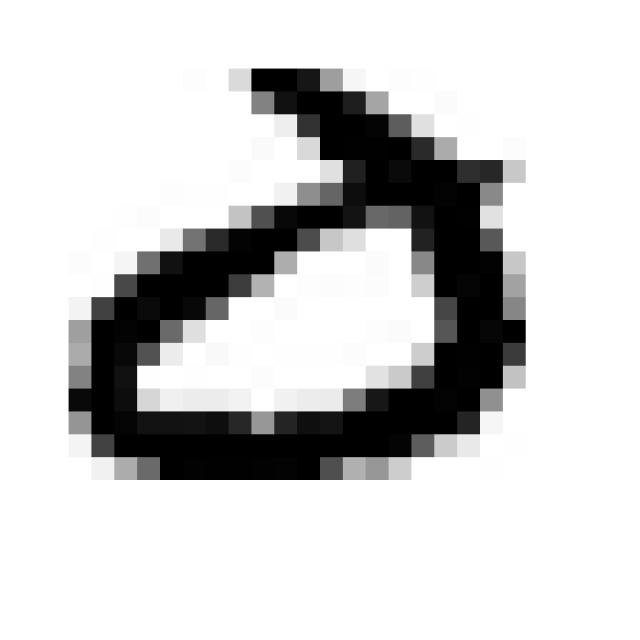5 -five-: (55, 50, 540, 496)
